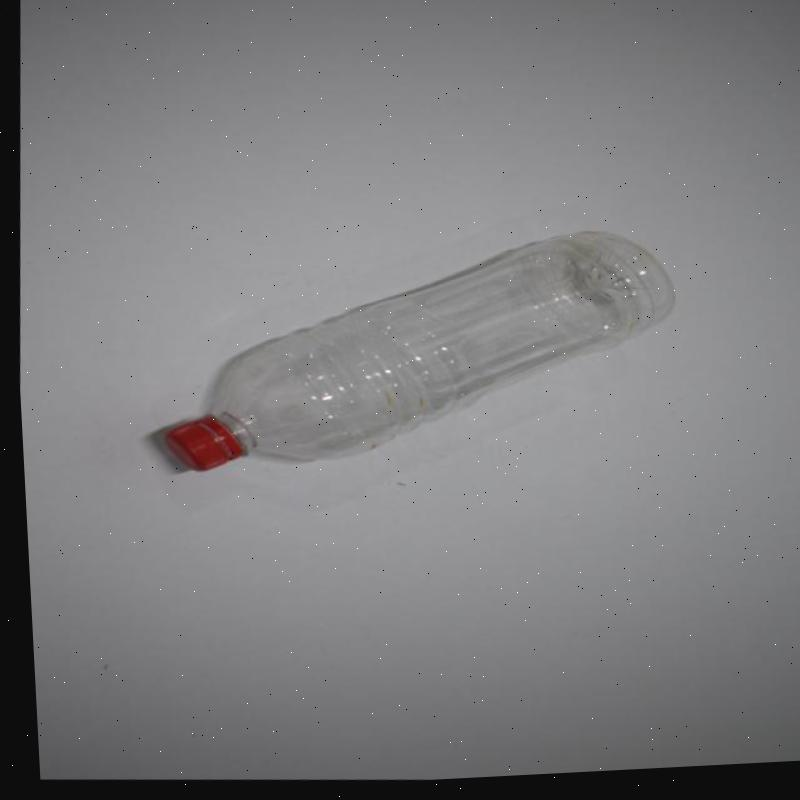botella: (145, 209, 683, 499)
